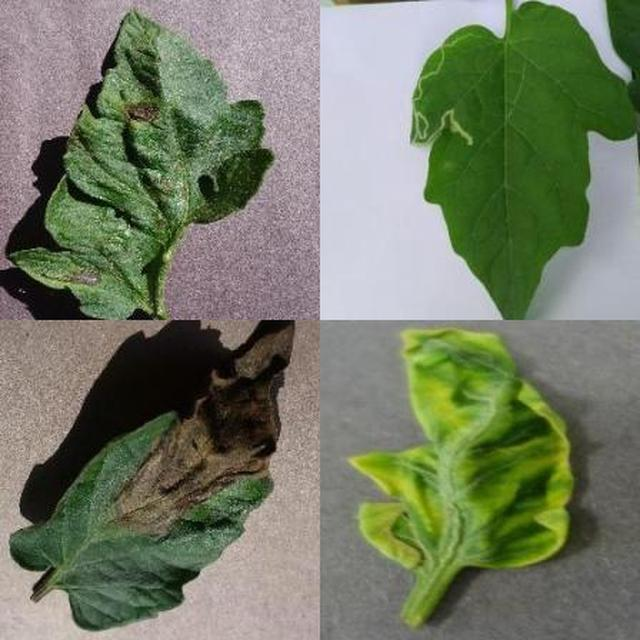Early Blight Leaf: (201, 229, 640, 640)
